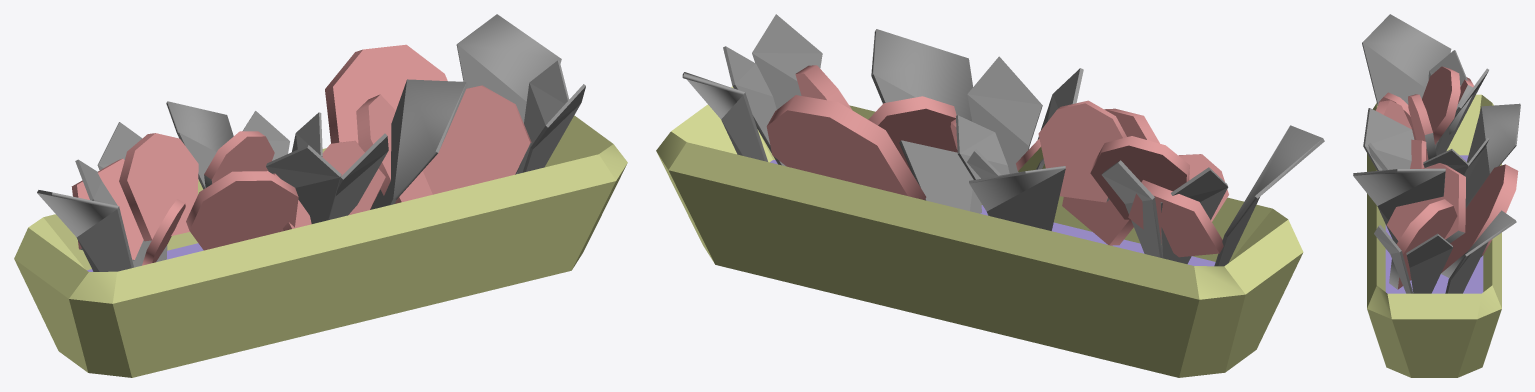
File: Balkonpflanze.FBX
3 renders of one model, left to right at view 1: azimuth 30°, elevation 25°; view 2: azimuth 150°, elevation 25°; view 3: azimuth 270°, elevation 25°, orthographic. The views are drawn at different scales.
Parts seen in each view (by area): view 1: Balkonpflanze; view 2: Balkonpflanze; view 3: Balkonpflanze.
Boxes of the visible parts, x1,y1,x2,y2 form: Balkonpflanze: [14, 14, 627, 377]; Balkonpflanze: [656, 14, 1324, 377]; Balkonpflanze: [1353, 14, 1520, 377].
Size of the model in its own units: 48.44 by 16.62 by 15.67.
